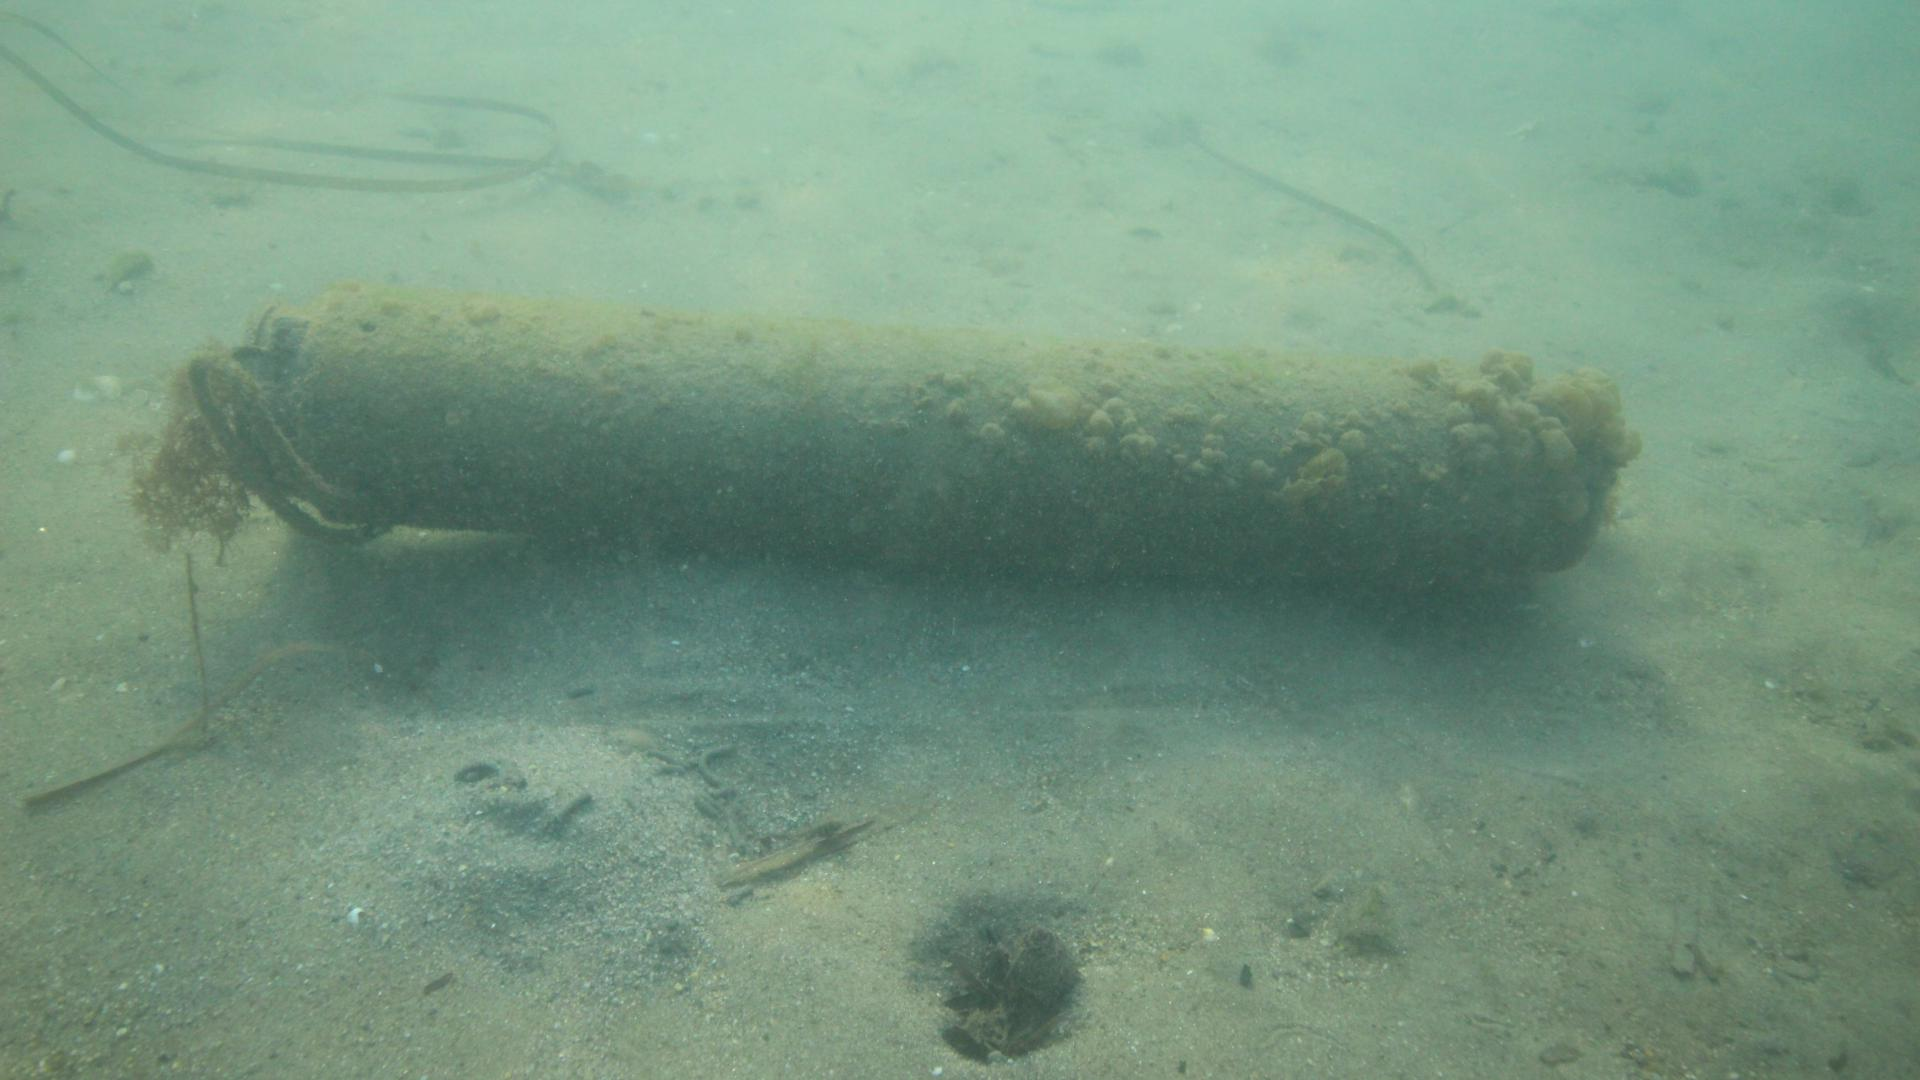eel fish trap: (237, 280, 1611, 580)
